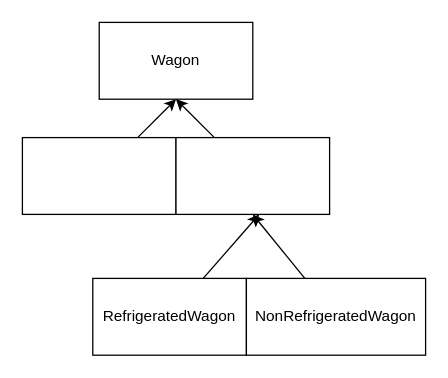
Image size: 448x378. Some labels were removed from this diagram. The centre of each missing label's shape, as x and y in pixels:
ClosedWagon: point 252,175
OpenWagon: point 98,175
